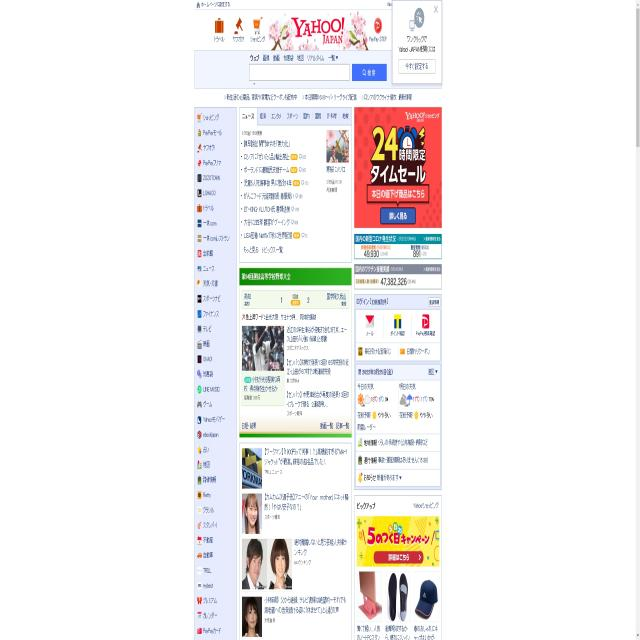menu-panel: (192, 105, 236, 639)
search: (248, 62, 386, 82)
side-panel: (352, 107, 444, 638)
tab-bar: (207, 14, 388, 52), (238, 107, 351, 125), (248, 50, 340, 64)
